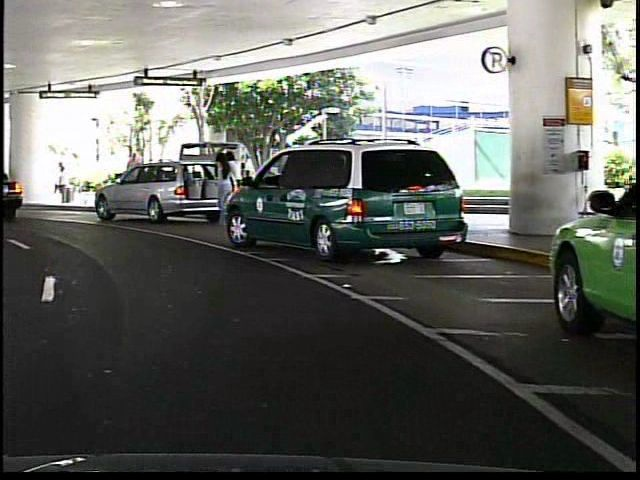person: (211, 148, 230, 226), (120, 149, 142, 203)
